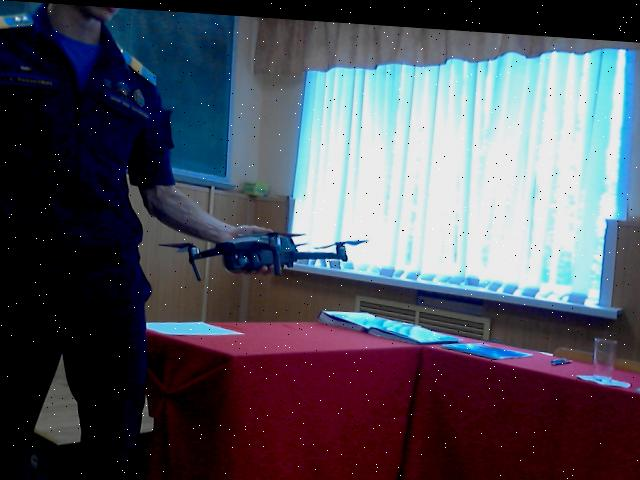drone: (164, 197, 366, 291)
